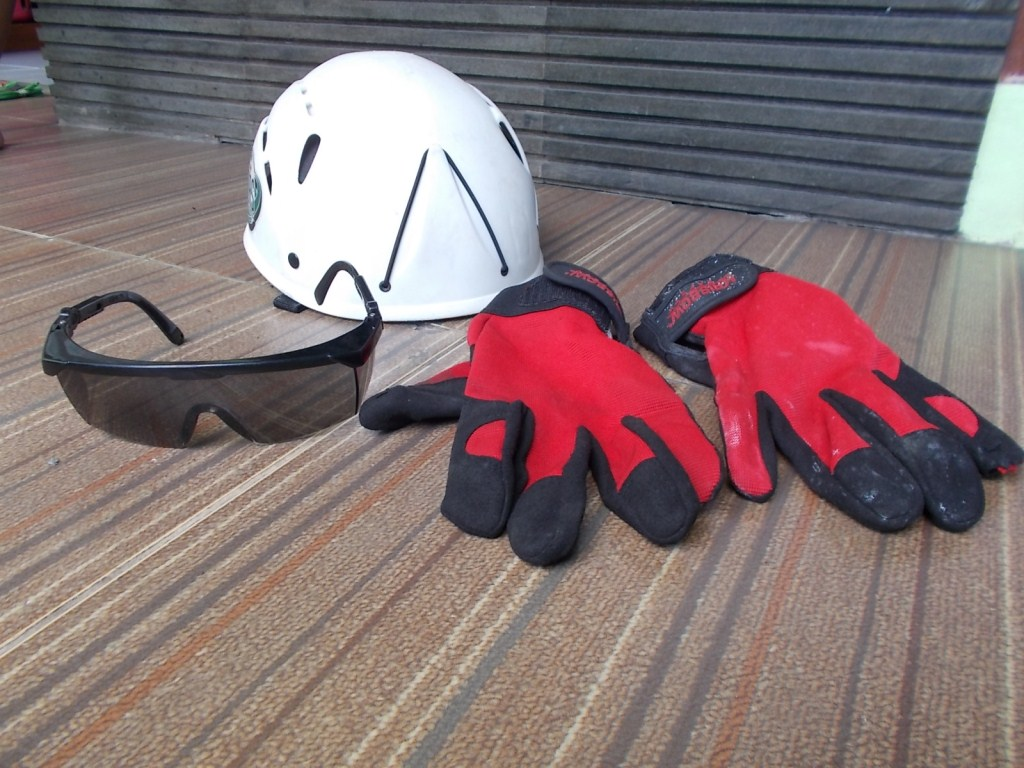SARUNG_TANGAN: (465, 312, 690, 555)
